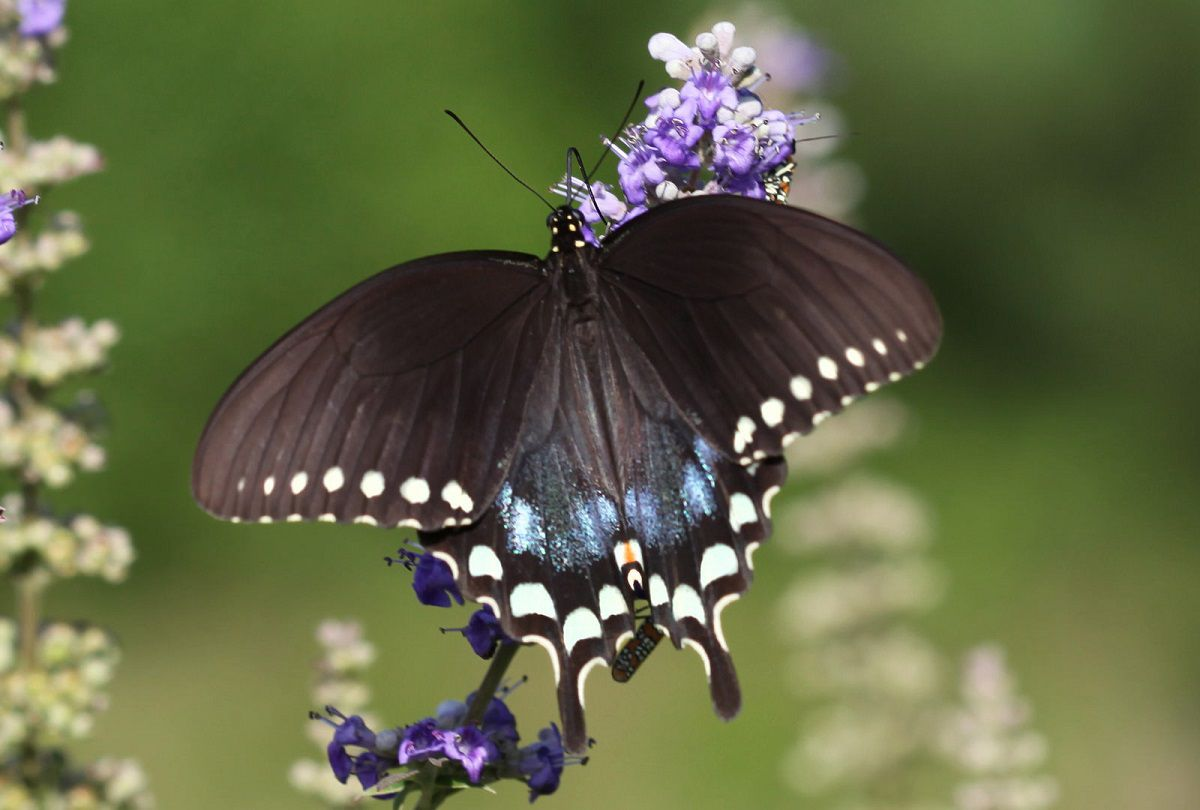Butterfly: (188, 101, 950, 758)
